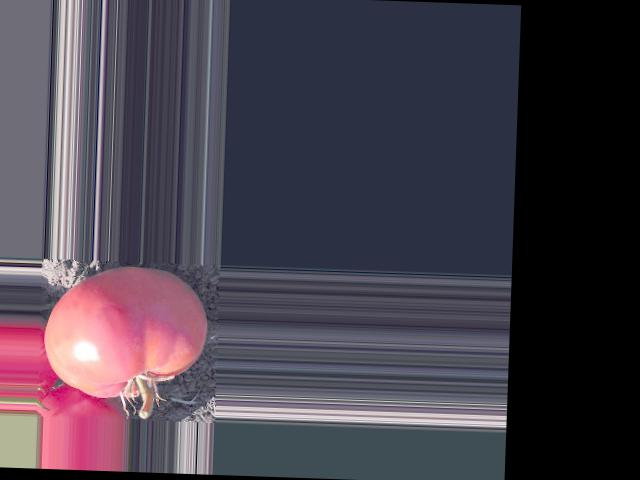tomato: (42, 263, 209, 400)
